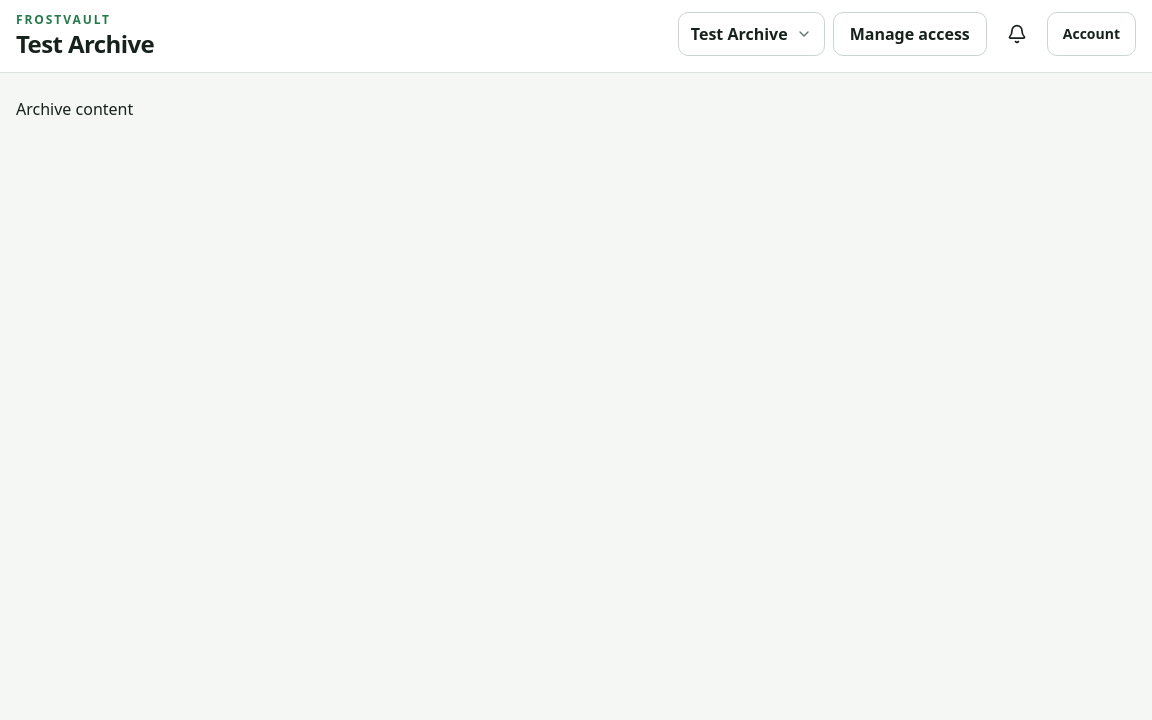
Scenario: theme control placement (#223 / #224) › keeps a single Appearance control behind the shell account menu
This screenshot has width=1152, height=720.
Click the button with aria-label "Open account menu": click(1091, 34) x1=1047 y1=12 x2=1136 y2=56
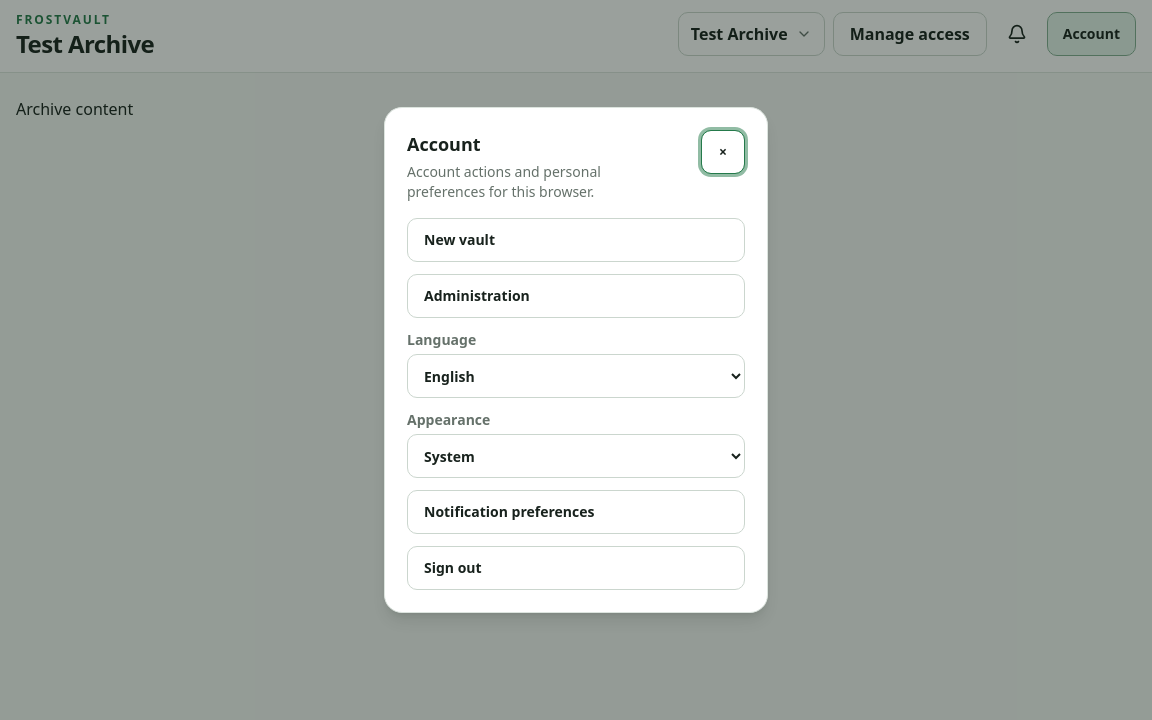
Expected: the number of dropdowns with test id "theme-control" is 1, x1=407 y1=434 x2=745 y2=478
